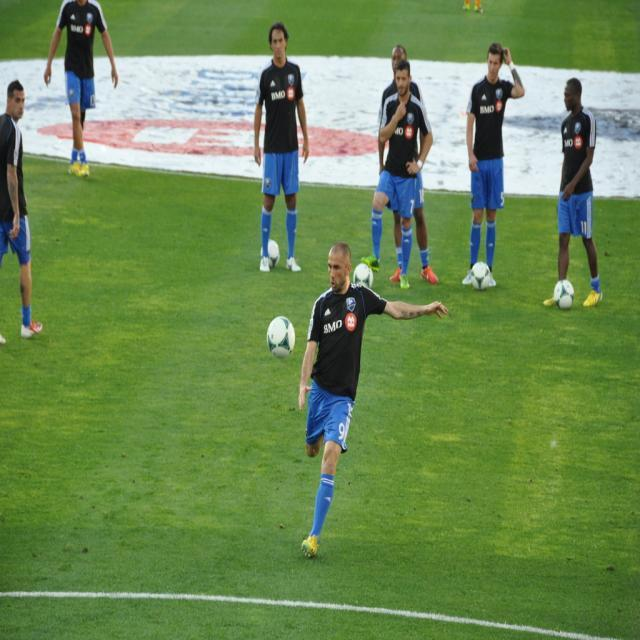football: (253, 311, 299, 358), (468, 266, 515, 306), (243, 232, 289, 269), (544, 280, 580, 309), (354, 256, 379, 293)
